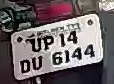1: (58, 32, 67, 50), (63, 48, 71, 66)
4: (70, 46, 85, 65), (65, 28, 81, 45), (83, 42, 97, 60)
6: (51, 50, 64, 68)
D: (16, 58, 31, 77)
P: (42, 33, 54, 51)
U: (29, 55, 45, 72), (29, 37, 43, 52)
